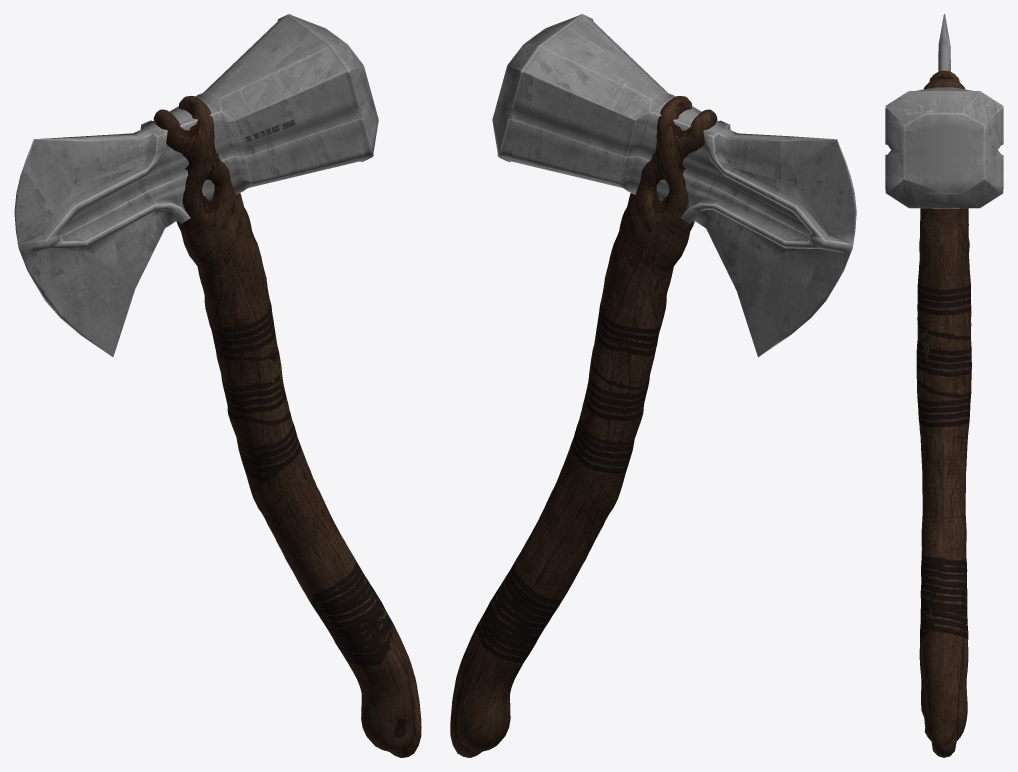
The picture shows the model from 3 angles, left to right: view 1: azimuth 30°, elevation 25°; view 2: azimuth 150°, elevation 25°; view 3: azimuth 270°, elevation 25°; orthographic projection. The views are drawn at different scales.
Visible parts, largest first — view 1: head, handlelp_02 - Default_0; view 2: head, handlelp_02 - Default_0; view 3: handlelp_02 - Default_0, head.
Part boxes in pixels (x1,y1,x2,y2): head: [14, 14, 378, 357]; handlelp_02 - Default_0: [153, 96, 421, 757]; head: [492, 14, 856, 357]; handlelp_02 - Default_0: [450, 96, 717, 757]; handlelp_02 - Default_0: [916, 70, 971, 757]; head: [885, 14, 1003, 208].
Bounding box in the file's own units: 164 × 290 × 49.55.
Materials: 2 (2 with a texture image).
